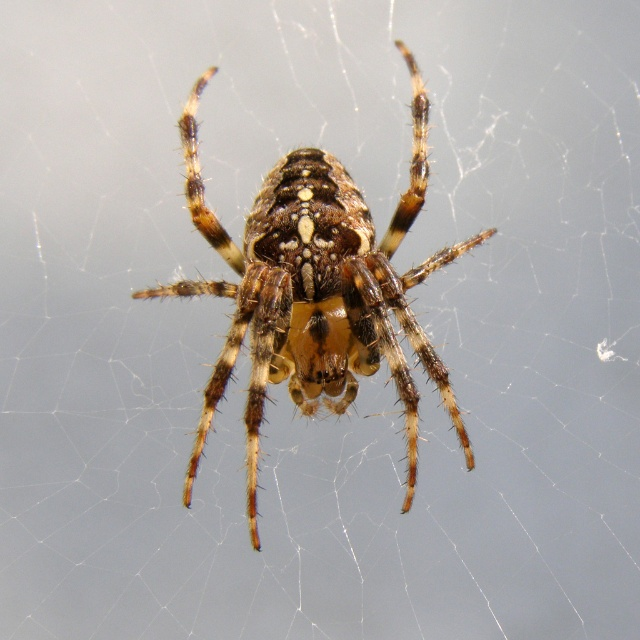Spider: (131, 38, 498, 552)
